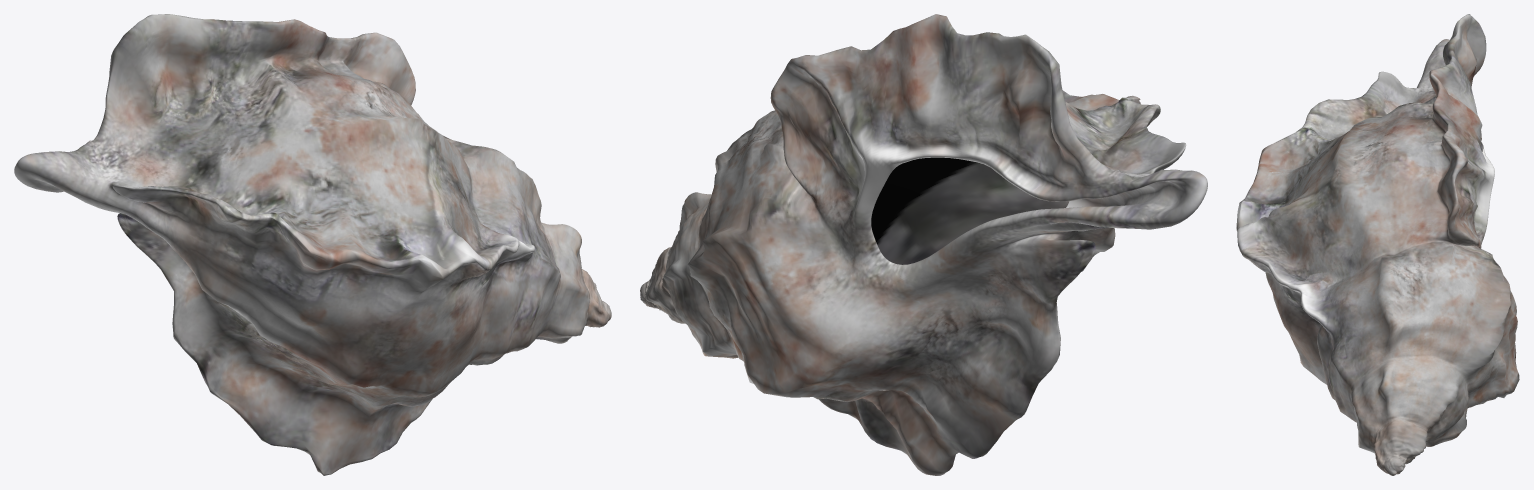
3 views of the same model, side by side, from view 1: azimuth 30°, elevation 25°; view 2: azimuth 150°, elevation 25°; view 3: azimuth 270°, elevation 25° (orthographic). The views are drawn at different scales.
Parts seen in each view (by area): view 1: B010_ceratostomaFournieri:B010_ceratostomaFournieri:sjl1:ZBr; view 2: B010_ceratostomaFournieri:B010_ceratostomaFournieri:sjl1:ZBr, B010_ceratostomaFournieri:B009_umboniumThomasi:polySurface4_; view 3: B010_ceratostomaFournieri:B010_ceratostomaFournieri:sjl1:ZBr.
Part boxes in pixels (<box>): B010_ceratostomaFournieri:B010_ceratostomaFournieri:sjl1:ZBr: <box>14,14,611,475</box>; B010_ceratostomaFournieri:B010_ceratostomaFournieri:sjl1:ZBr: <box>640,14,1207,475</box>; B010_ceratostomaFournieri:B009_umboniumThomasi:polySurface4_: <box>871,157,1069,264</box>; B010_ceratostomaFournieri:B010_ceratostomaFournieri:sjl1:ZBr: <box>1236,14,1519,475</box>.
Bounding box in the file's own units: 9.89 × 7.85 × 5.38.
Materials: 2 (2 with a texture image).
